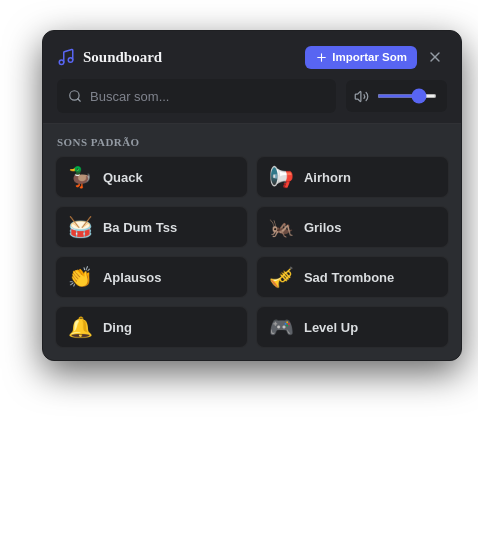
Test case: SoundboardPopover - Importar e Excluir Sons › exibe o botão "+ Importar Som" no popover e permite enviar um novo arquivo de áudio para administradores
Later steps or results of the test are not shown.
Click the button with test id "toggle-import-sound-btn" at (361, 57), box x1=305 y1=46 x2=417 y2=68
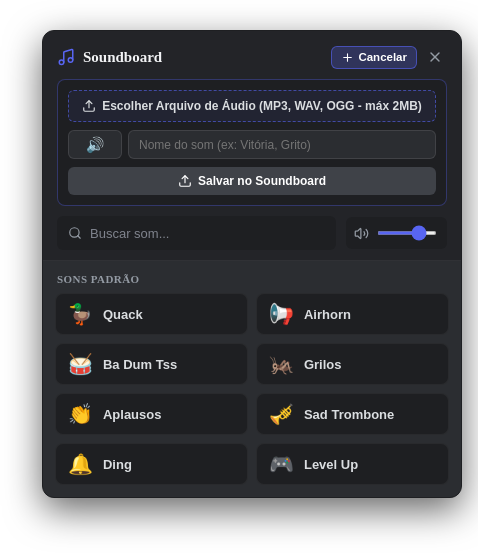
Check: the form with test id "soundboard-import-form" is shown, box x1=57 y1=79 x2=447 y2=206
